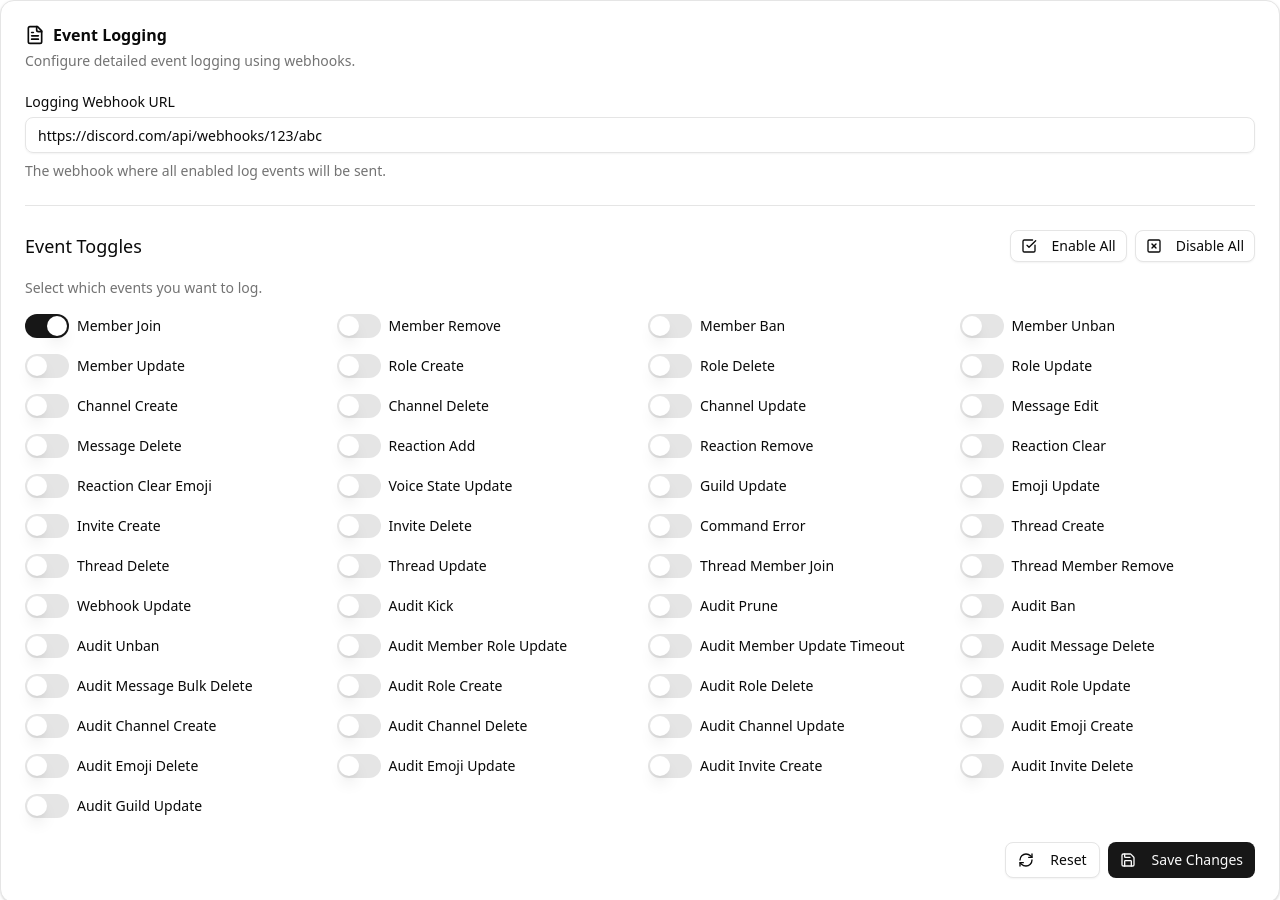
it: LoggingSettings › enables all events when "Enable All" is clicked but does not save
Click the button "Enable All": {"x": 1069, "y": 246} [1010, 230, 1127, 262]
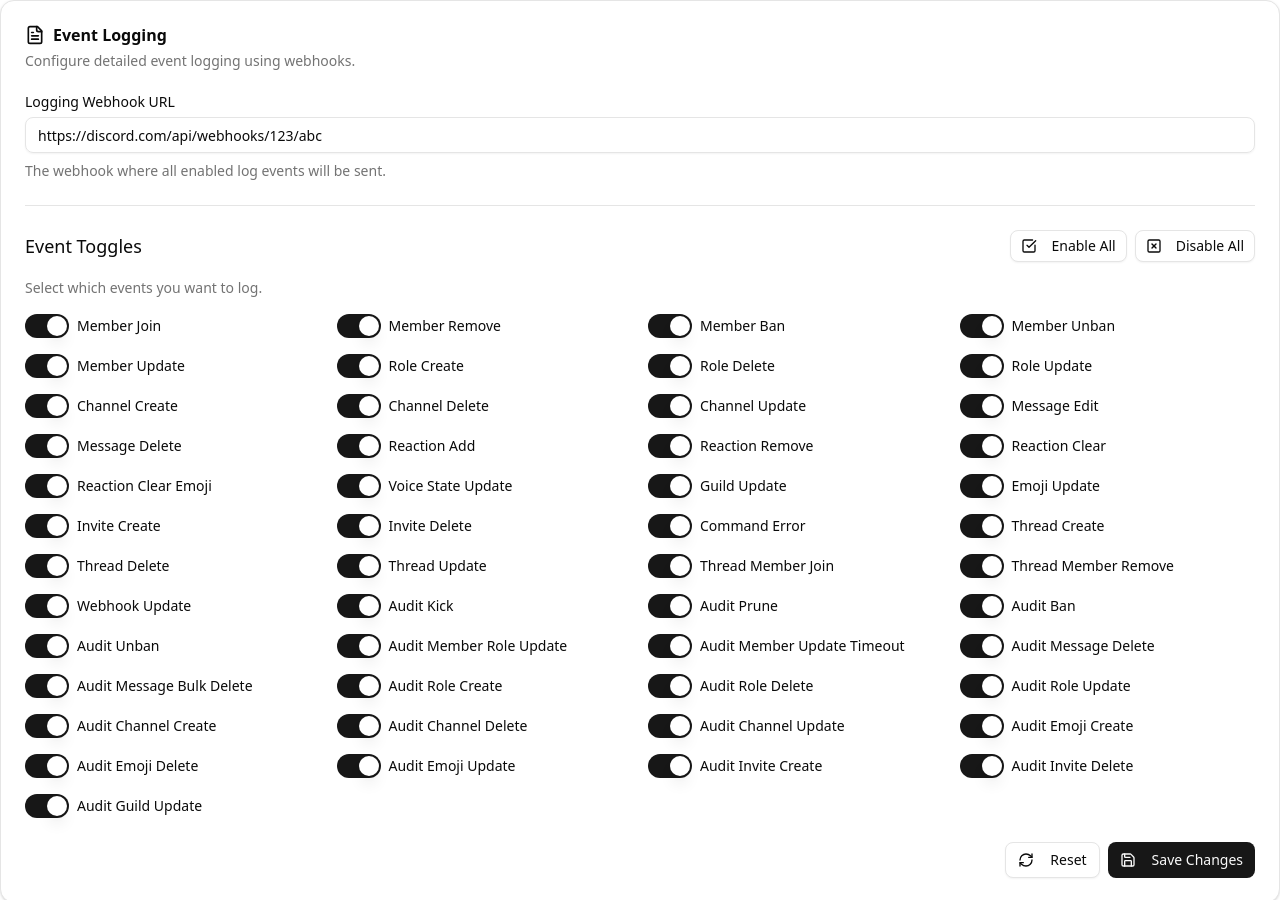
Check: the 1st switch named "Member Join" is checked, box [25, 314, 69, 338]
Check: the 2nd switch named "Member Remove" is checked, box [336, 314, 380, 338]
